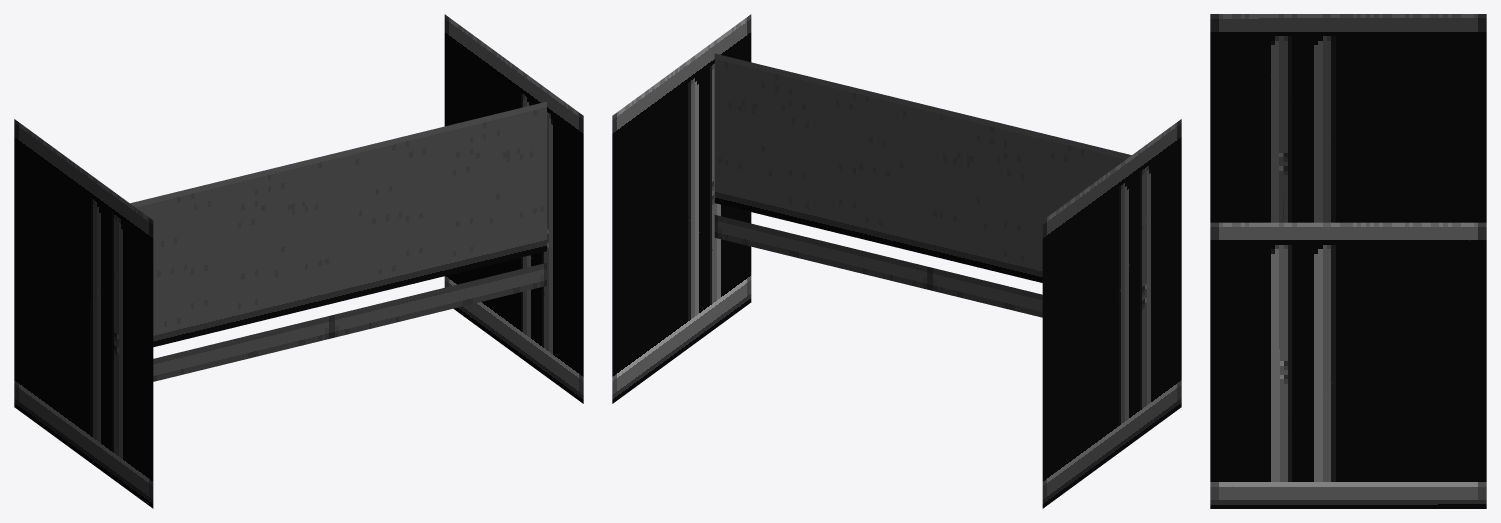
Rendered from metal_table_secondary.glb.
The picture shows the model from 3 angles, left to right: view 1: azimuth 30°, elevation 25°; view 2: azimuth 150°, elevation 25°; view 3: azimuth 270°, elevation 25°; orthographic projection.
Visible parts, largest first — view 1: Object; view 2: Object; view 3: Object.
Part boxes in pixels (x1,y1,x2,y2): Object: (14, 14, 583, 508); Object: (612, 14, 1181, 508); Object: (1210, 14, 1486, 508).
Size of the model in its own units: 1.65 by 1.06 by 0.9232.
3 materials, 3 textured.
